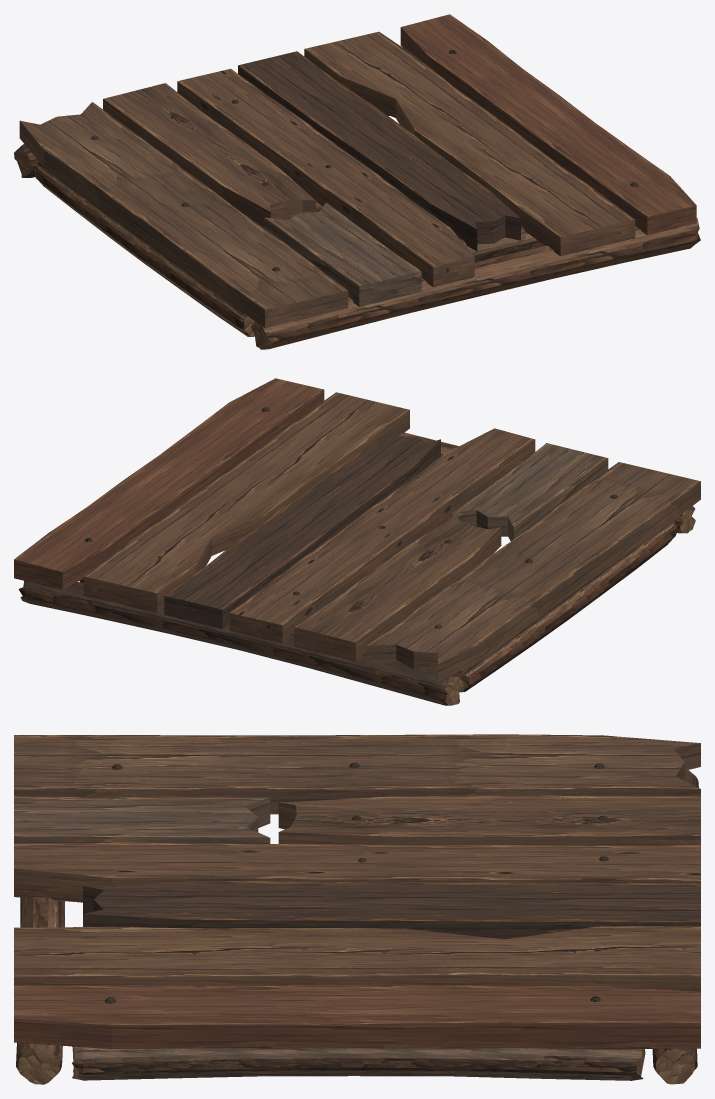
Rendered from floor_old.glb.
3 views of the same model, one above another, from view 1: azimuth 30°, elevation 25°; view 2: azimuth 150°, elevation 25°; view 3: azimuth 270°, elevation 25° (orthographic). The views are drawn at different scales.
Visible parts, largest first — view 1: model; view 2: model; view 3: model.
Part boxes in pixels (x1,y1,x2,y2): model: (14,14,700,349); model: (14,378,700,705); model: (14,734,700,1084).
Size of the model in its own units: 1.99 by 0.2339 by 1.99.
Materials: 19 (19 with a texture image).
